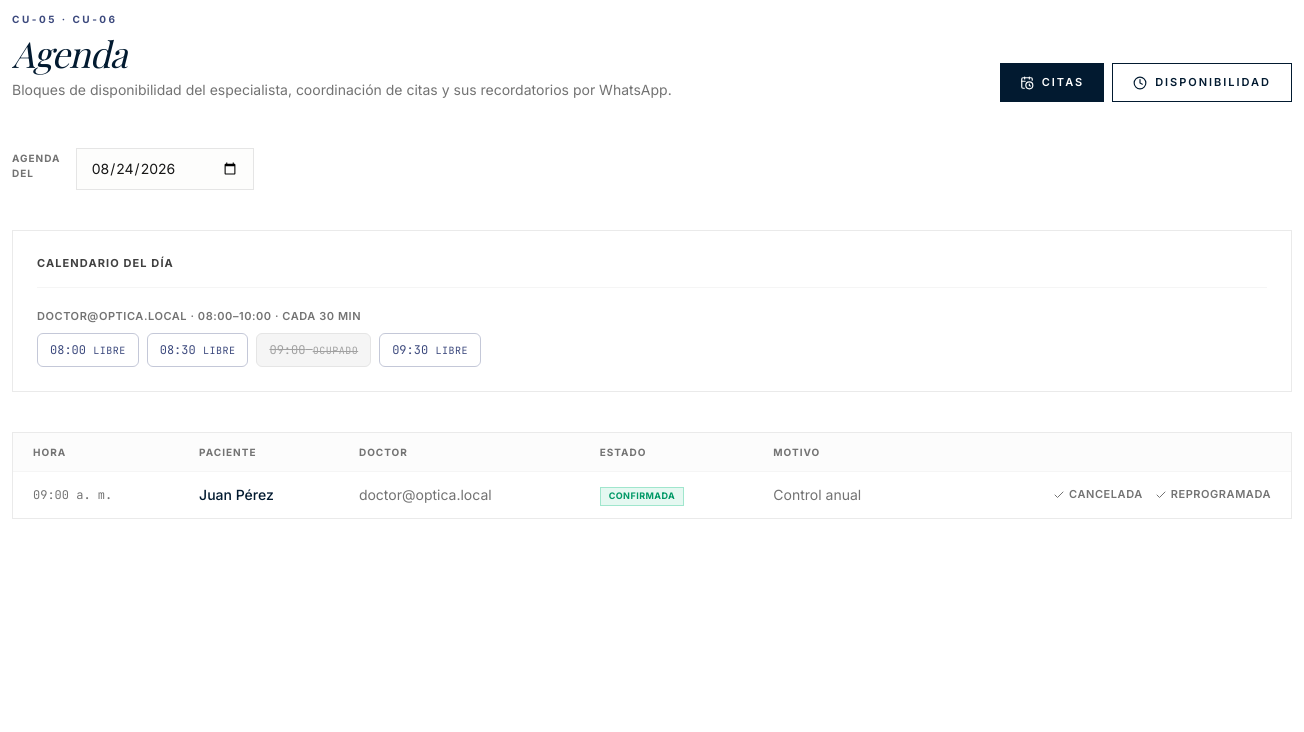
AgendaPage › 2. Alta de cita — CU-05 pasos 3, 4 y 5 › el formulario aparece solo al elegir un cupo libre
Expected: the text "Nueva cita —" is not shown
Click the button "08:30 Libre": click(198, 350) left=147, top=333, right=248, bottom=367
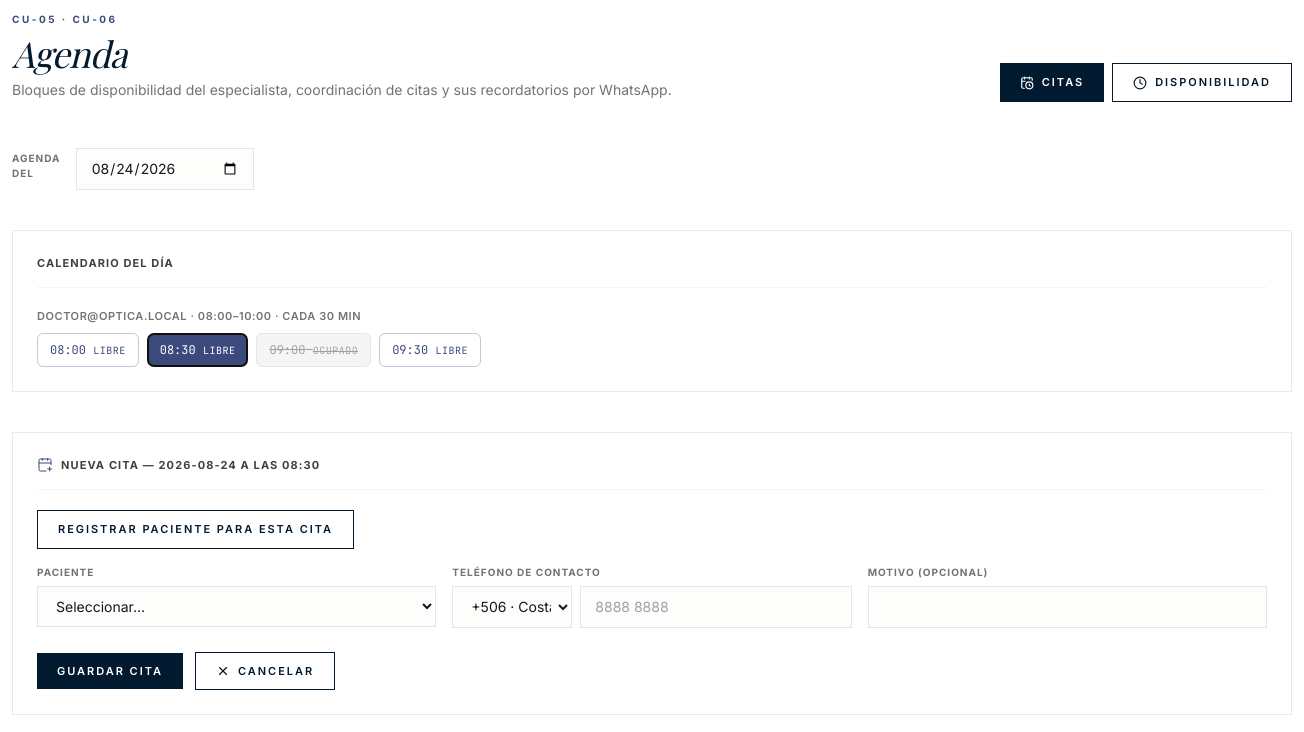
Expected: the heading "Nueva cita — 2026-08-24 a las 08:30" is shown, left=37, top=457, right=1267, bottom=490
